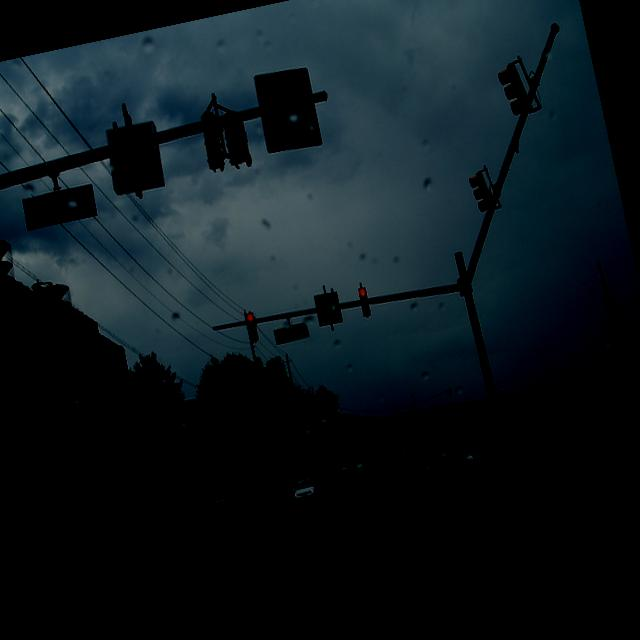Vehicle: (607, 364, 640, 434), (200, 484, 238, 518), (342, 466, 376, 502), (290, 476, 320, 506), (353, 458, 373, 478), (338, 462, 348, 473)
